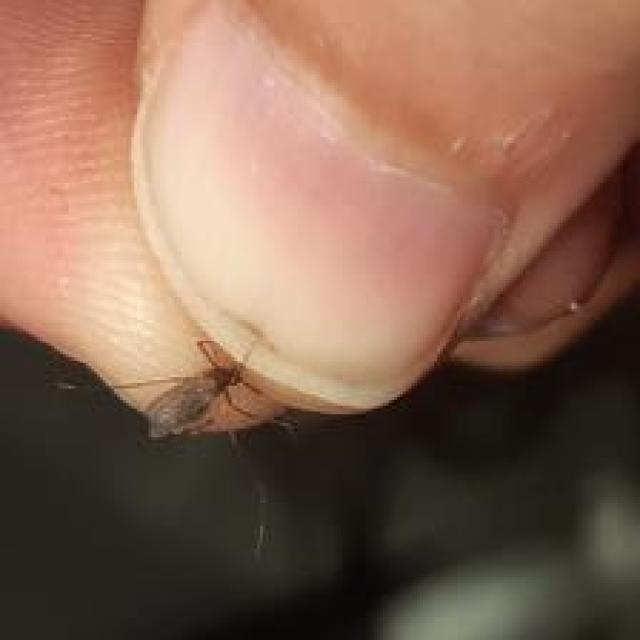Culex: (105, 336, 288, 444)
